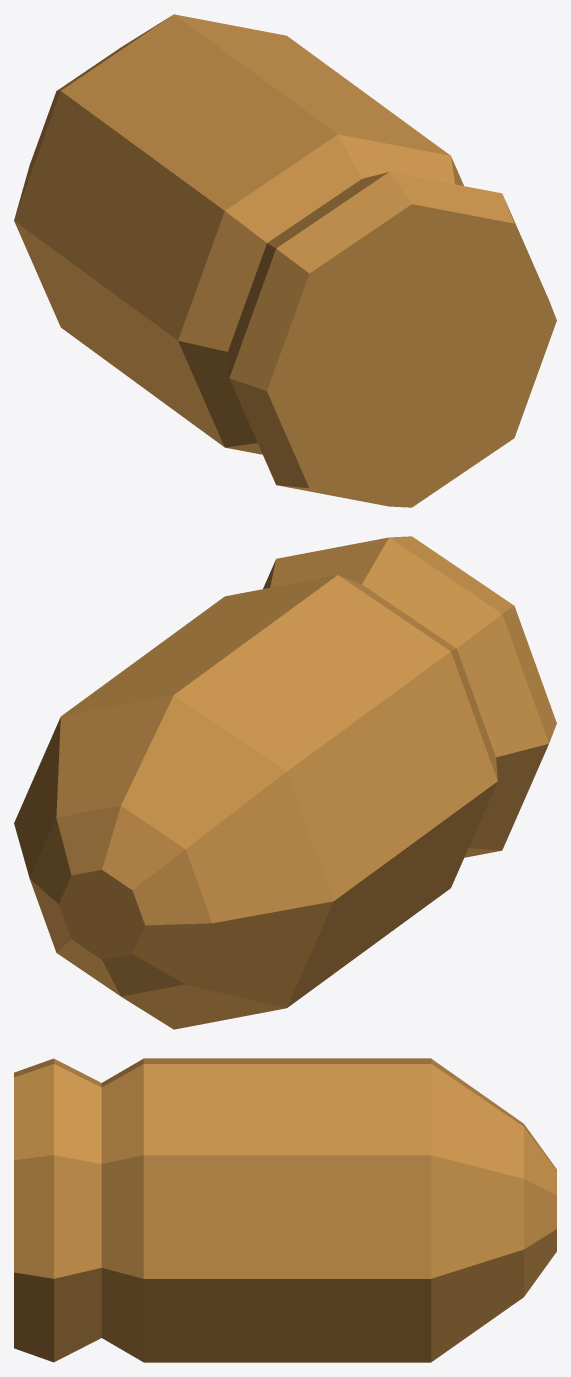
Rendered from grenade.fbx.
3 renders of one model, top to bottom at view 1: azimuth 30°, elevation 25°; view 2: azimuth 150°, elevation 25°; view 3: azimuth 270°, elevation 25°, orthographic. The views are drawn at different scales.
Visible parts, largest first — view 1: Circle.012; view 2: Circle.012; view 3: Circle.012.
Boxes of the visible parts, x1=… form: Circle.012: x1=14, y1=14, x2=556, y2=507; Circle.012: x1=14, y1=536, x2=556, y2=1029; Circle.012: x1=14, y1=1058, x2=556, y2=1362.
Bounding box in the file's own units: 482 × 482 × 809.
